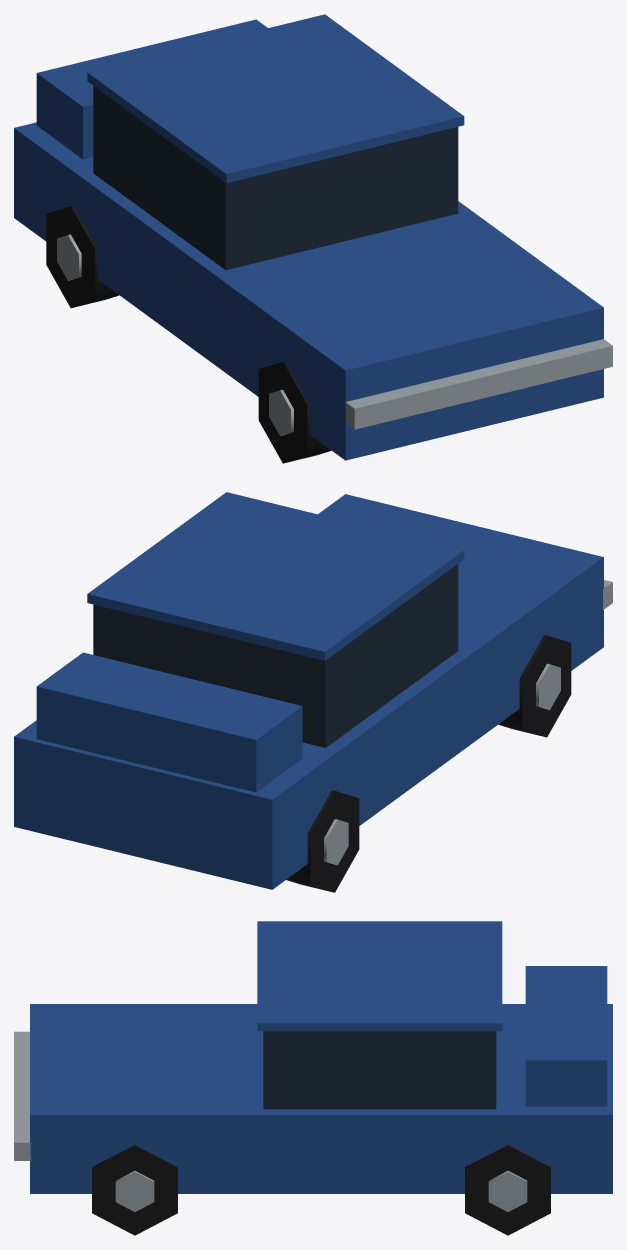
The model's file is veh_ground_car_a06_lod1.glb.
3 views of the same model, one above another, from view 1: azimuth 30°, elevation 25°; view 2: azimuth 150°, elevation 25°; view 3: azimuth 270°, elevation 25° (orthographic). The views are drawn at different scales.
Parts seen in each view (by area): view 1: body, wheel_2, wheel_0; view 2: body, wheel_0, wheel_2; view 3: body, wheel_1, wheel_3.
Boxes of the visible parts, x1,y1,x2,y2 form: body: (14,14,612,460); wheel_2: (258,361,331,463); wheel_0: (46,205,119,308); body: (14,492,612,889); wheel_0: (286,790,359,892); wheel_2: (498,635,571,737); body: (14,921,612,1193); wheel_1: (465,1145,550,1235); wheel_3: (92,1145,177,1235).
Size of the model in its own units: 1.88 by 1.57 by 4.11.
